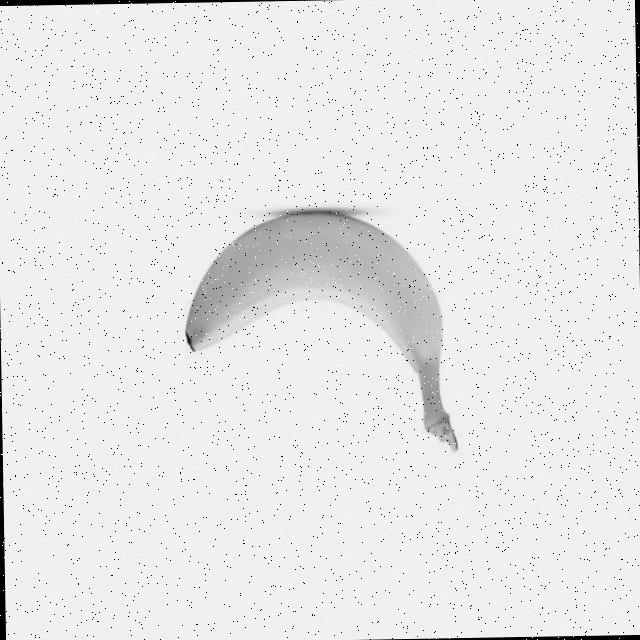banana: (182, 205, 450, 454)
